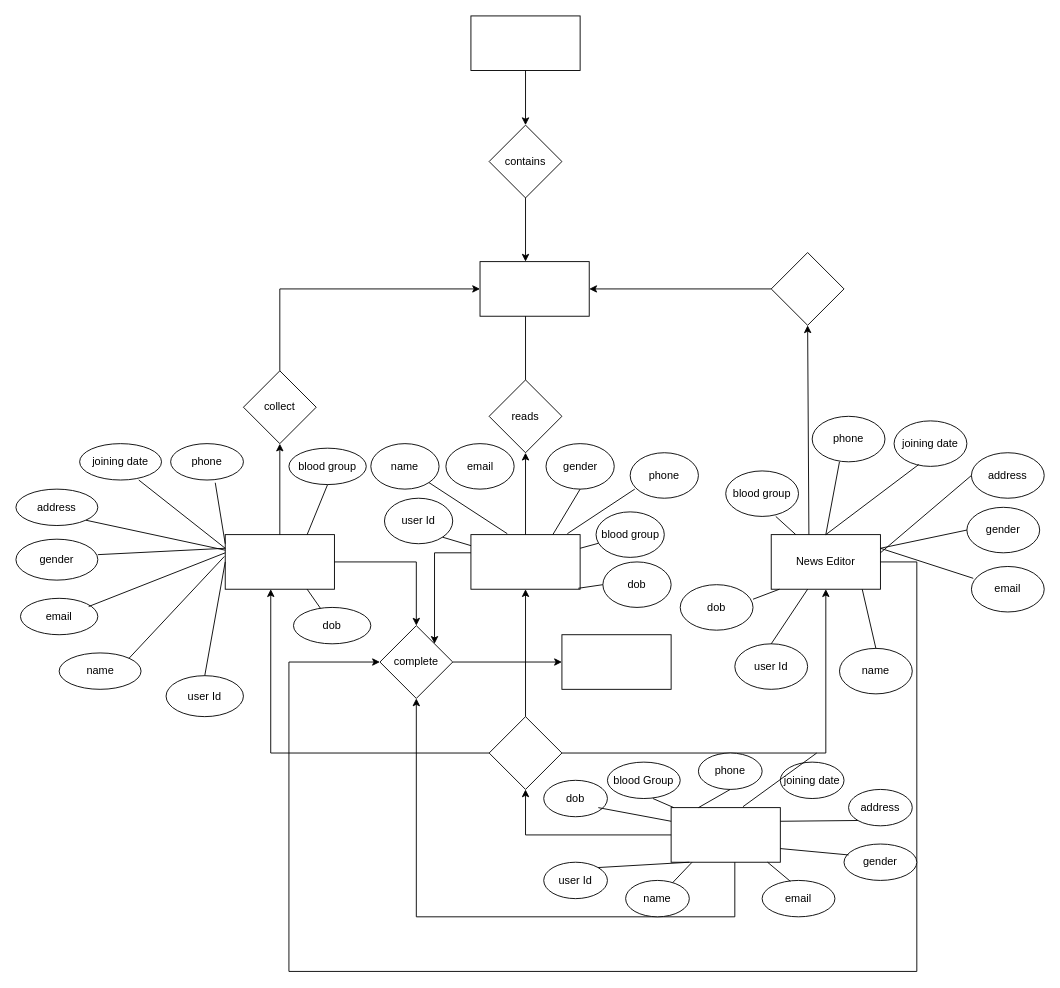
Some shapes in this 1060 by 988 pixel diagram are drawn without their labels. The shapes that lost their labels are listed below. From the top down, each one's centre as x and y in pixels, then its label:
point 525,43: News Portal System
point 534,288: News
point 807,288: maiintains
point 279,561: Journalist
point 525,561: Reader
point 616,661: Registration
point 525,752: controls
point 725,834: Admin
